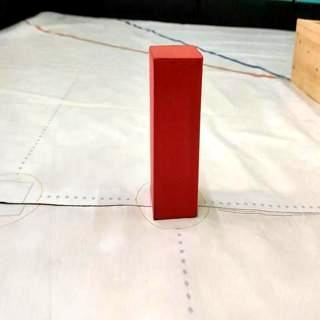redbox: (148, 44, 204, 220)
